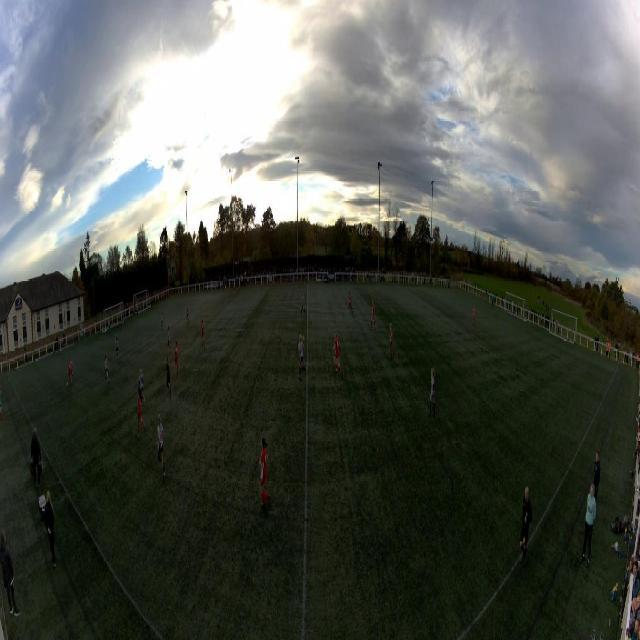ball: (66, 382, 68, 386)
player: (258, 434, 269, 510), (156, 415, 166, 477), (298, 332, 306, 381), (137, 390, 145, 435), (333, 332, 341, 376), (429, 370, 435, 414), (166, 356, 172, 398), (67, 356, 74, 384), (139, 368, 145, 400), (370, 300, 376, 331), (389, 324, 394, 359), (174, 340, 178, 375), (105, 357, 110, 385), (202, 318, 206, 350), (300, 293, 305, 317), (348, 291, 353, 313), (167, 326, 171, 353), (115, 335, 119, 359), (472, 305, 476, 326), (186, 303, 189, 325), (108, 321, 111, 337), (161, 311, 163, 330)
